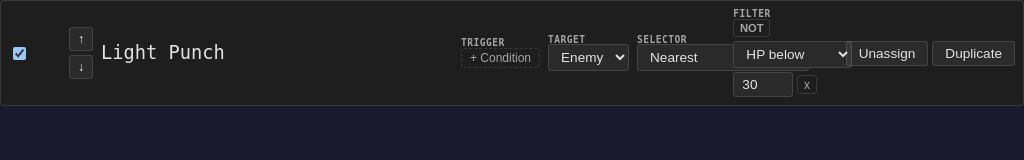
Scenario: SkillRow - Target Self Hides Selector and Filter › dynamic target changes › filter config preserved through target self round-trip
Expected: the dropdown named "filter type for light punch" shows "HP below", [733,41,852,68]
Note: Change to self -- filter hidden
Select "Self" in the dropdown named "target for light punch" at x=588, y=58, box [548,44,629,72]
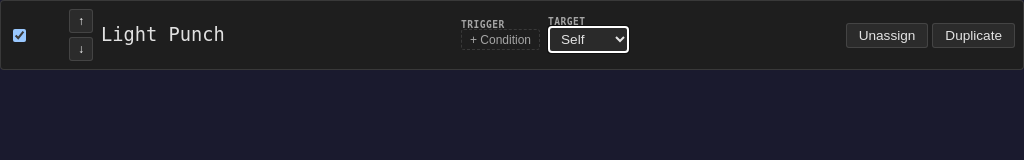
Note: Change back to enemy -- filter restored
Select "Enemy" in the dropdown named "target for light punch" at x=588, y=40, box [548,26,629,53]
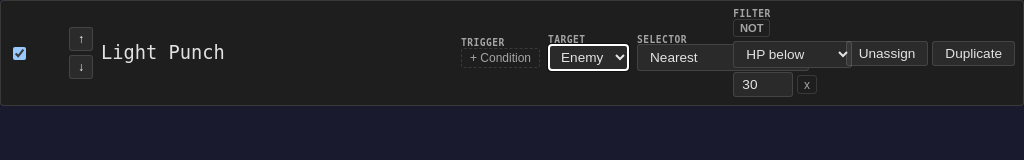
Now the dropdown named "filter type for light punch" shows "HP below", box [733,41,852,68]
